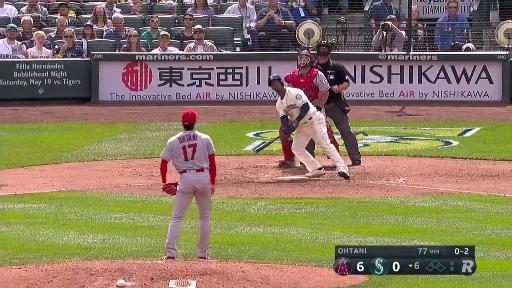pitcher: (158, 110, 218, 262)
